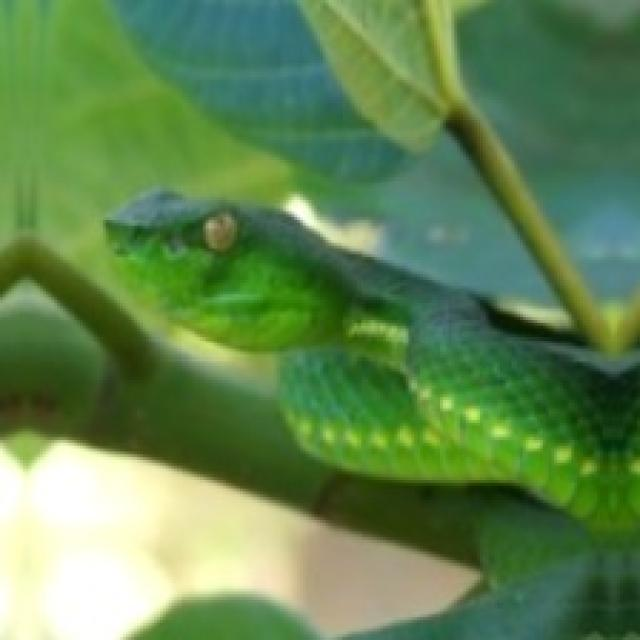philippine pitviper: (106, 191, 637, 529), (106, 191, 637, 526)
